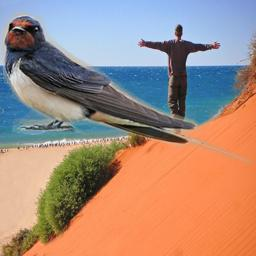Swallow: (1, 11, 256, 164)
